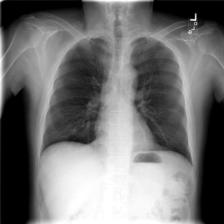normal: (38, 34, 194, 168)
